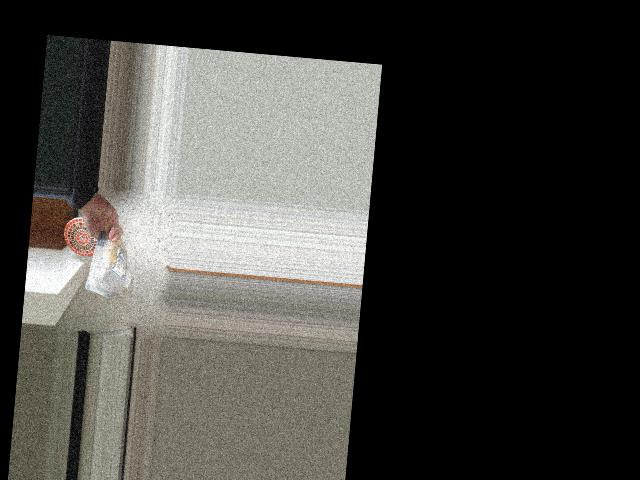cheese: (87, 231, 129, 300)
